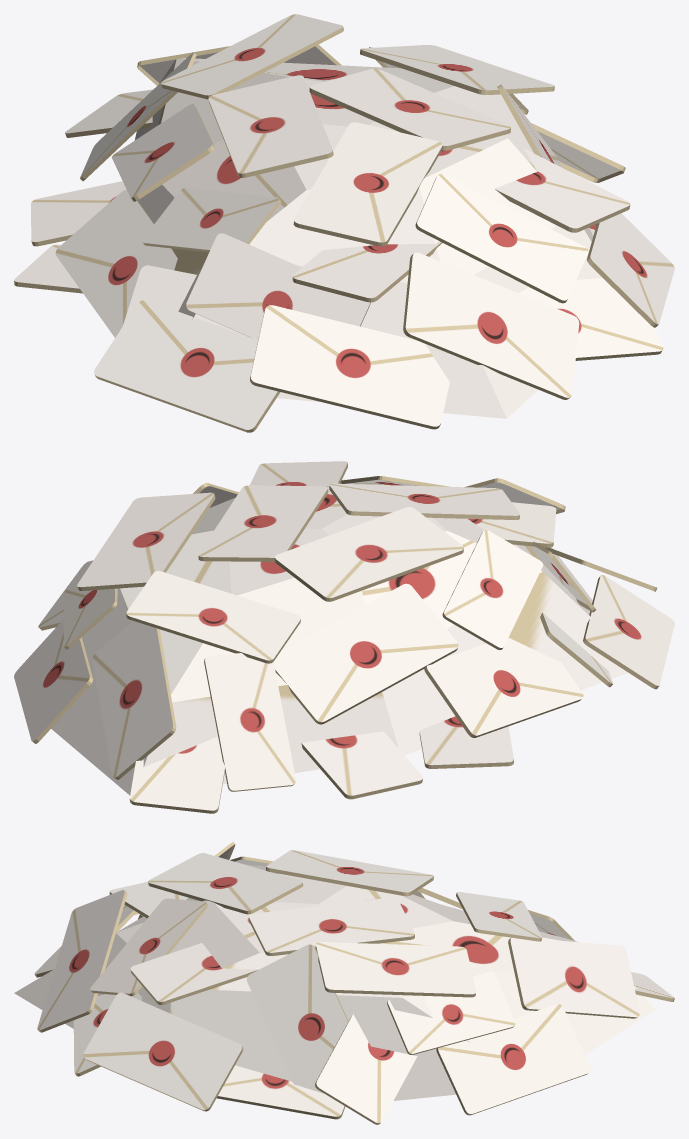
The model's file is 3D_letter_stack_2.fbx.
The picture shows the model from 3 angles, top to bottom: view 1: azimuth 30°, elevation 25°; view 2: azimuth 150°, elevation 25°; view 3: azimuth 270°, elevation 25°; orthographic projection. The views are drawn at different scales.
Visible parts, largest first — view 1: Letter_Stack_2_Joined; view 2: Letter_Stack_2_Joined; view 3: Letter_Stack_2_Joined.
Boxes of the visible parts, <box> form: Letter_Stack_2_Joined: <box>14,14,674,432</box>; Letter_Stack_2_Joined: <box>14,461,674,813</box>; Letter_Stack_2_Joined: <box>14,842,674,1124</box>.
Size of the model in its own units: 2.42 by 0.6751 by 2.97.
